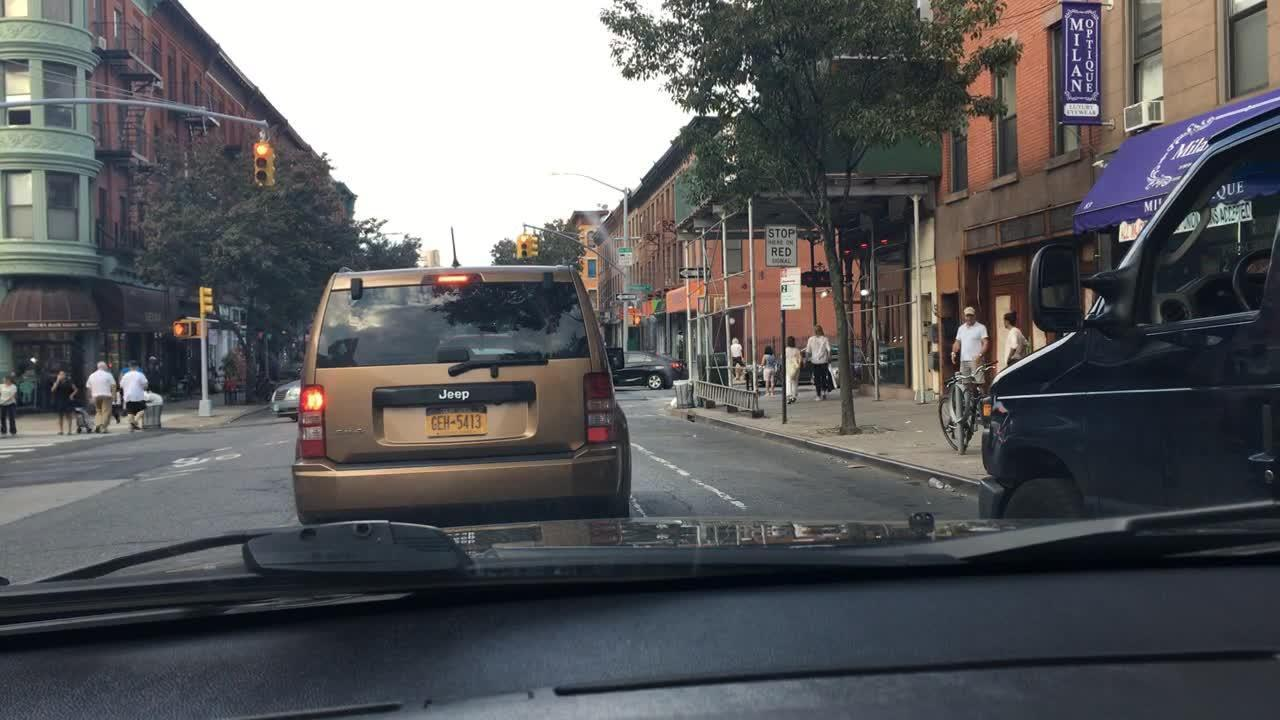jeep: (429, 381, 476, 406)
